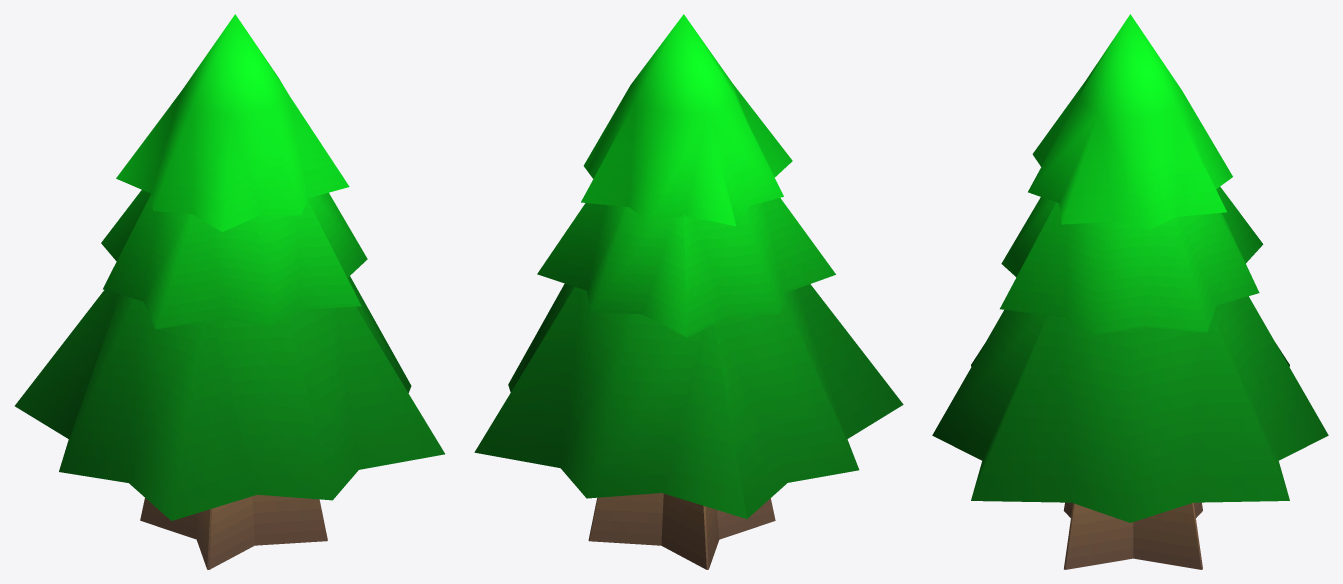
File: PineTree.fbx
3 views of the same model, side by side, from view 1: azimuth 30°, elevation 25°; view 2: azimuth 150°, elevation 25°; view 3: azimuth 270°, elevation 25° (orthographic). The views are drawn at different scales.
Visible parts, largest first — view 1: Plane006, Plane008, Plane007, Plane005; view 2: Plane006, Plane007, Plane008, Plane005; view 3: Plane006, Plane008, Plane007, Plane005.
Part boxes in pixels (x1,y1,x2,y2): Plane006: (15, 276, 444, 520); Plane008: (116, 14, 349, 231); Plane007: (101, 190, 367, 329); Plane005: (140, 494, 327, 569); Plane006: (474, 283, 903, 518); Plane007: (537, 198, 835, 337); Plane008: (581, 14, 792, 226); Plane005: (588, 493, 775, 569); Plane006: (932, 296, 1328, 522); Plane008: (1028, 14, 1232, 229); Plane007: (1000, 187, 1263, 335); Plane005: (1063, 502, 1202, 569).
Size of the model in its own units: 20.76 by 29.11 by 19.9.
